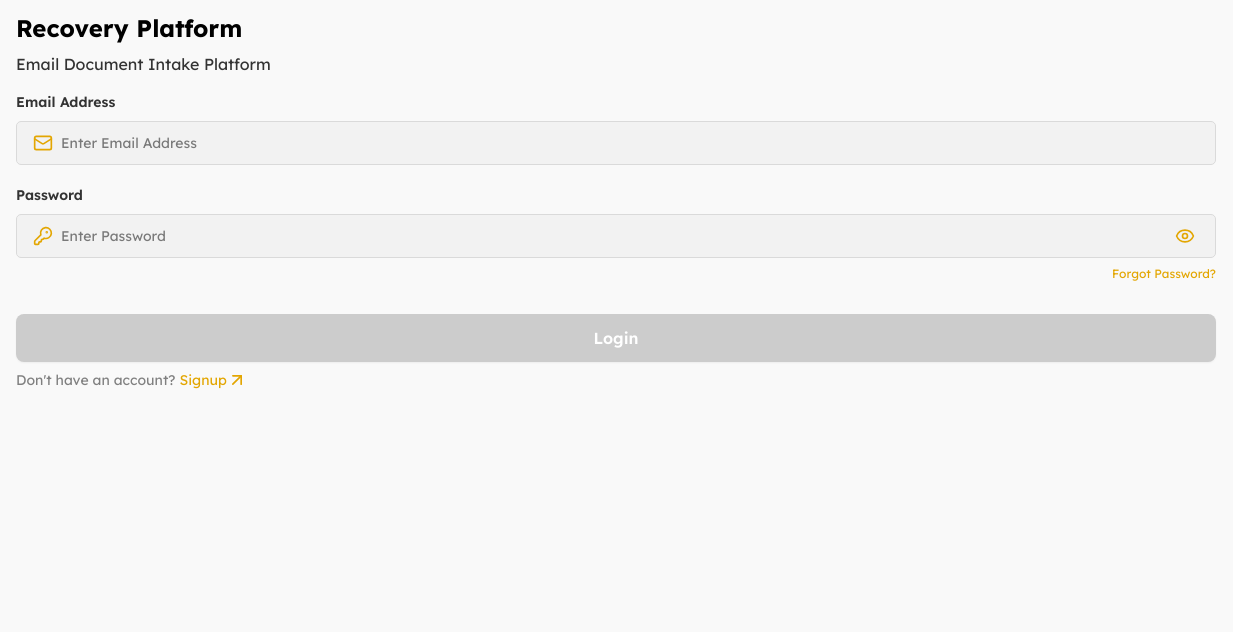
Scenario: first-login flow (real endpoints) › routes a 403 password-setup login to the OTP screen
This screenshot has width=1233, height=632.
Type "ali.khan@devexcelit.com" into the field labelled "Email Address" at (630, 143), box [61,132,1199,154]
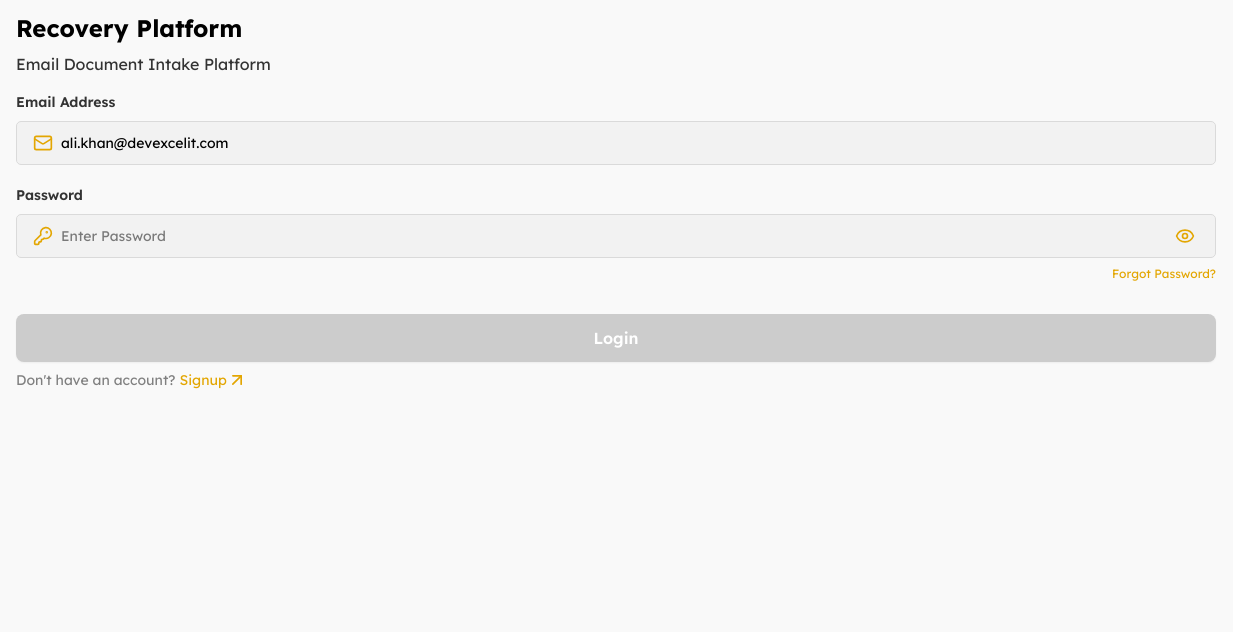
Type "Temp@1234" into the password field labelled "Password" at (612, 236), box [61,226,1163,246]
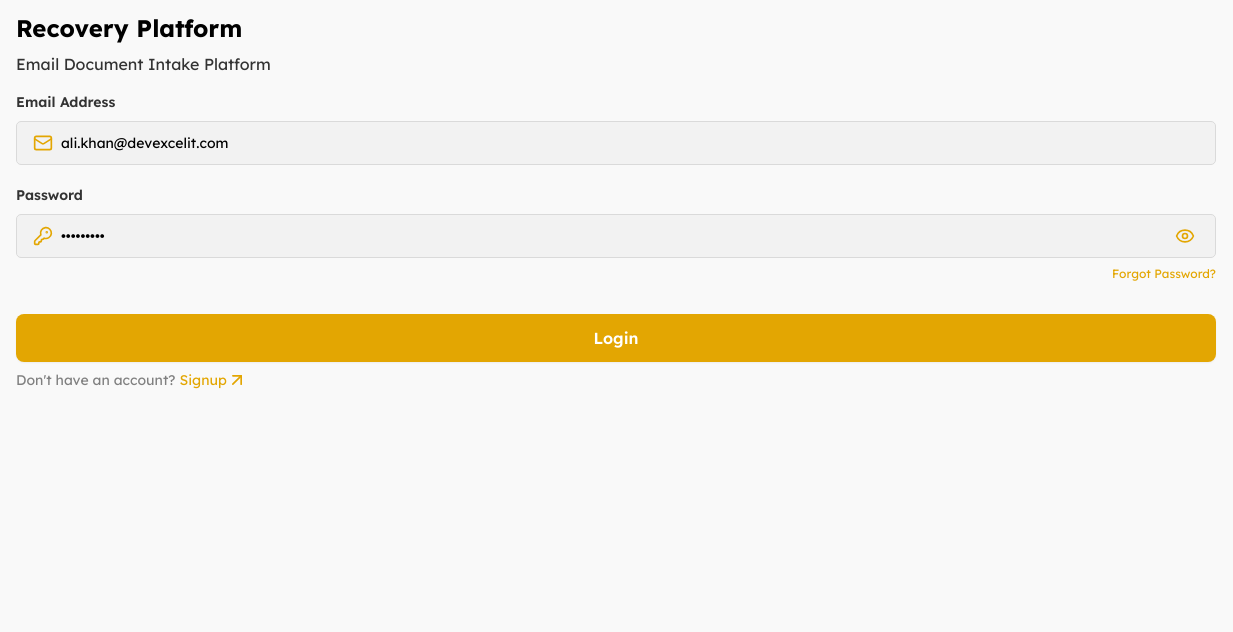
Click the button "Login" at (616, 338), box [16,314,1216,362]
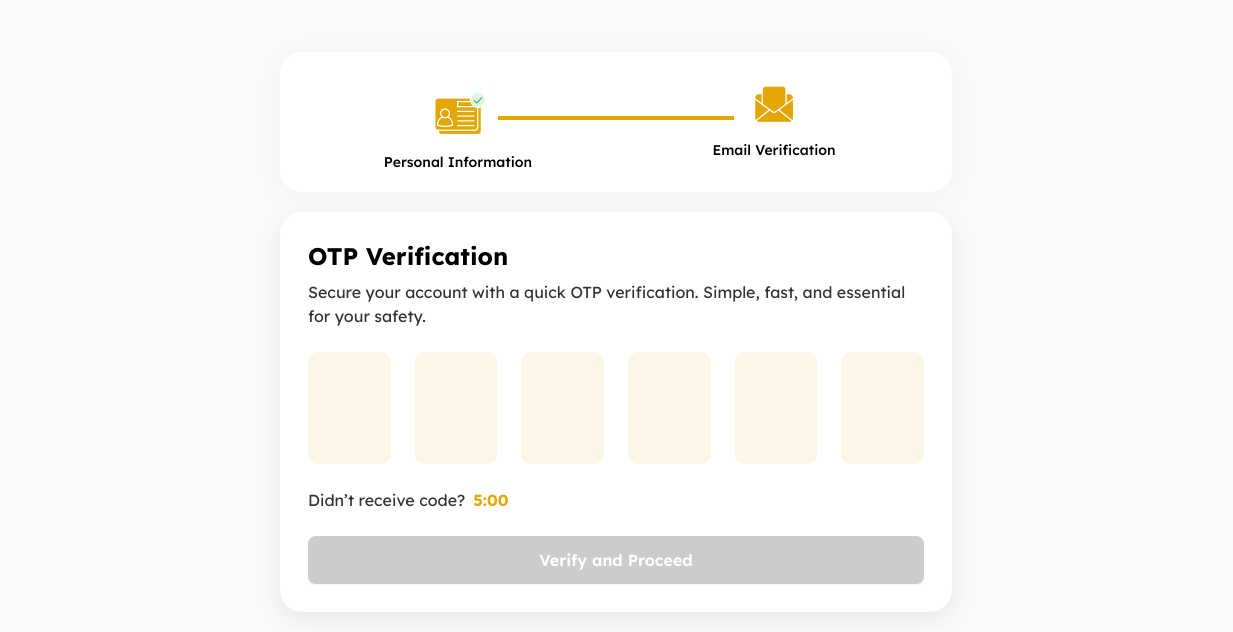
expect the heading "OTP Verification" is shown: met, box [308,241,508,271]
